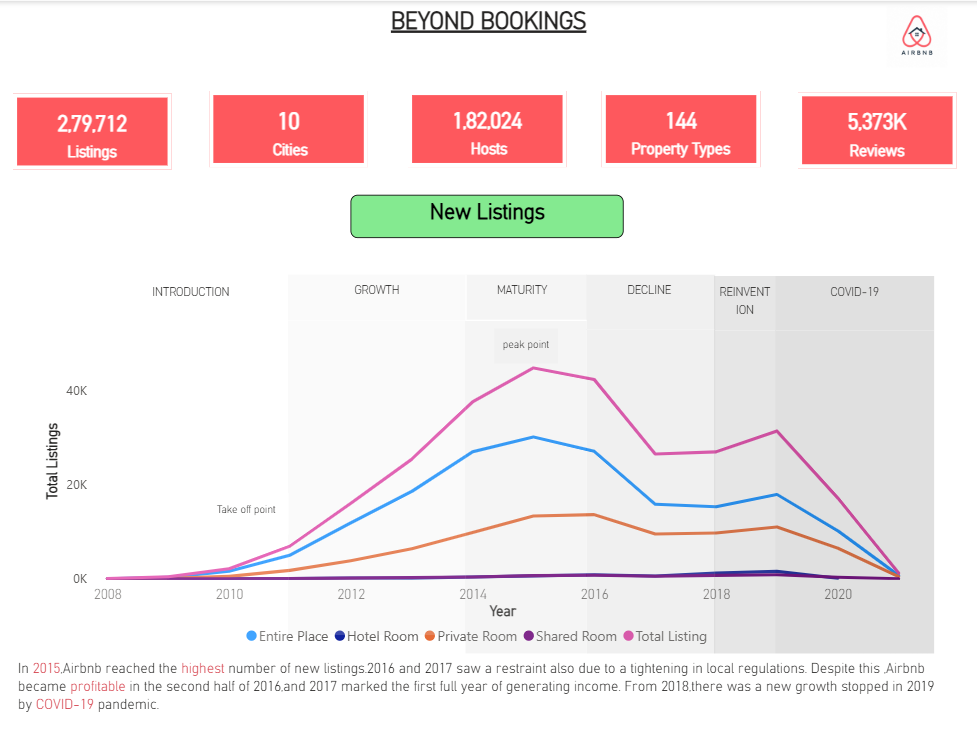

Layout of this report page (visuals, bound fields, positions):
{"tool":"powerbi","page":{"name":"Overview","canvas":[960,720],"ordinal":0},"visuals":[{"type":"textbox","box":[150.4,0,659.1,59.9],"z":0},{"type":"image","box":[847.4,0,103.9,69.7],"z":1000},{"type":"card","fields":{"Values":["CountNonNull(Listings.listing_id)"]},"box":[14.9,90.2,155.3,74.6],"z":2000},{"type":"card","fields":{"Values":["Count(Reviews.review_id)"]},"box":[782.9,89,155.3,74.6],"z":3000},{"type":"card","fields":{"Values":["Count(Listings.property_type)"]},"box":[590.9,87.8,155.3,74.6],"z":4000},{"type":"card","fields":{"Values":["Count(Listings.host_id)"]},"box":[401.3,87.8,155.3,74.6],"z":5000},{"type":"card","fields":{"Values":["Count(Listings.city)"]},"box":[206.9,87.8,155.3,74.6],"z":6000},{"type":"lineChart","fields":{"Category":["Listings.host_since.Variation.Date Hierarchy.Year"],"Y":["Listings.Entire Place","Listings.Hotel Room","Listings.Private Room","Listings.Shared Room","CountNonNull(Listings.listing_id)"]},"box":[40,322,860,318],"z":7000},{"type":"textbox","box":[345,190,267.5,42.5],"z":8000},{"type":"shape","box":[92.5,320,191.2,320],"z":9000},{"type":"shape","box":[284.2,312.5,174.2,307.5],"z":10000},{"type":"shape","box":[457.5,312.5,118.3,325.8],"z":11000},{"type":"shape","box":[575.8,321.7,125.8,320],"z":12000},{"type":"shape","box":[701.1,322.2,60,320],"z":13000},{"type":"shape","box":[761.1,322.2,155.2,320],"z":14000},{"type":"textbox","box":[92.5,268.8,191.2,43.8],"z":15000},{"type":"textbox","box":[283.8,267.5,173.8,45],"z":16000},{"type":"textbox","box":[458.3,268.3,117.5,44.2],"z":17000},{"type":"textbox","box":[575.8,268.3,125.8,53.3],"z":18000},{"type":"textbox","box":[761.1,268.9,155,53.9],"z":19000},{"type":"textbox","box":[701.1,268.9,60,53.9],"z":20000},{"type":"textbox","box":[204,482,80,40],"z":21000},{"type":"textbox","box":[486,320,62,34],"z":22000},{"type":"textbox","box":[15,638.8,922.5,81.2],"z":23000}]}

Visuals, with their boxes in screenshot pixels (x1, y1, x2, y2), scaled from the page's 960x720 canvas onto the 977x736 screenshot:
textbox: [left=153, top=0, right=824, bottom=61]
image: [left=862, top=0, right=968, bottom=71]
card - CountNonNull(Listings.listing_id): [left=15, top=92, right=173, bottom=168]
card - Count(Reviews.review_id): [left=797, top=91, right=955, bottom=167]
card - Count(Listings.property_type): [left=601, top=90, right=759, bottom=166]
card - Count(Listings.host_id): [left=408, top=90, right=566, bottom=166]
card - Count(Listings.city): [left=211, top=90, right=369, bottom=166]
lineChart - Listings.host_since.Variation.Date Hierarchy.Year x Listings.Entire Place: [left=41, top=329, right=916, bottom=654]
textbox: [left=351, top=194, right=623, bottom=238]
shape: [left=94, top=327, right=289, bottom=654]
shape: [left=289, top=319, right=467, bottom=634]
shape: [left=466, top=319, right=586, bottom=652]
shape: [left=586, top=329, right=714, bottom=656]
shape: [left=714, top=329, right=775, bottom=656]
shape: [left=775, top=329, right=933, bottom=656]
textbox: [left=94, top=275, right=289, bottom=320]
textbox: [left=289, top=273, right=466, bottom=319]
textbox: [left=466, top=274, right=586, bottom=319]
textbox: [left=586, top=274, right=714, bottom=329]
textbox: [left=775, top=275, right=932, bottom=330]
textbox: [left=714, top=275, right=775, bottom=330]
textbox: [left=208, top=493, right=289, bottom=534]
textbox: [left=495, top=327, right=558, bottom=362]
textbox: [left=15, top=653, right=954, bottom=735]
